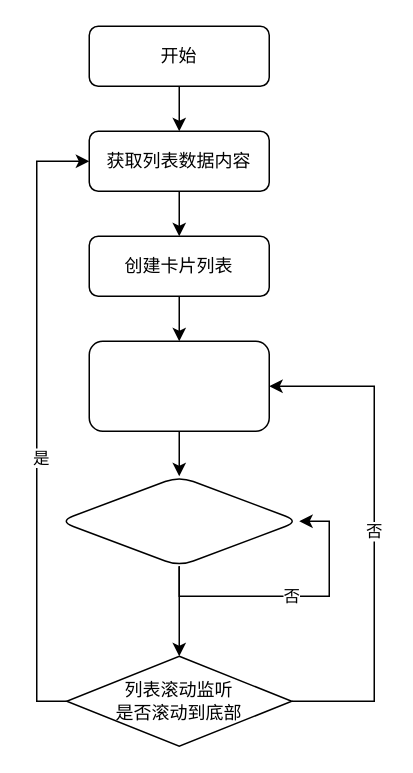
Some shapes in this 413 by 773 pixel diagram are drawn without their labels. The shapes that lost their labels are listed below. From the top down, each one's centre as x and y in pixels, then its label:
At (178,385): "加载列表卡片&生成视频队列".
At (178,520): "视频顺序播放 是否结束".
